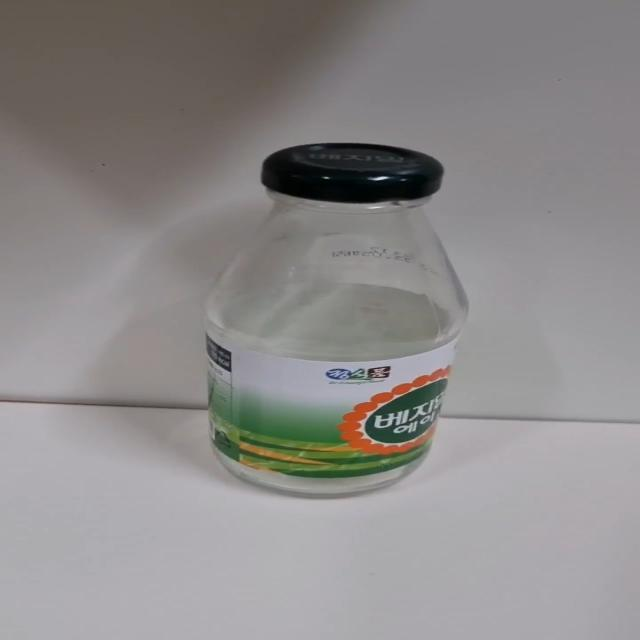Glass: (189, 141, 477, 500)
